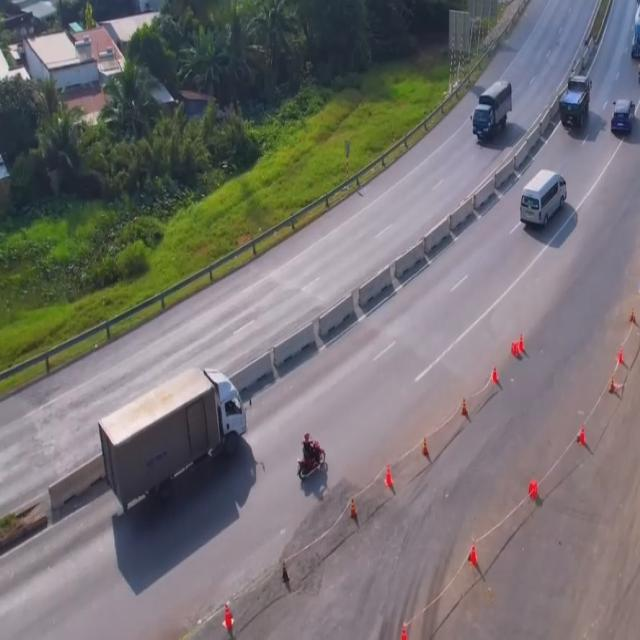car: (518, 168, 570, 232), (609, 98, 636, 139), (632, 0, 640, 65)
motorbike: (297, 431, 327, 478)
truck: (97, 362, 247, 504), (472, 79, 512, 148), (558, 73, 590, 135)
